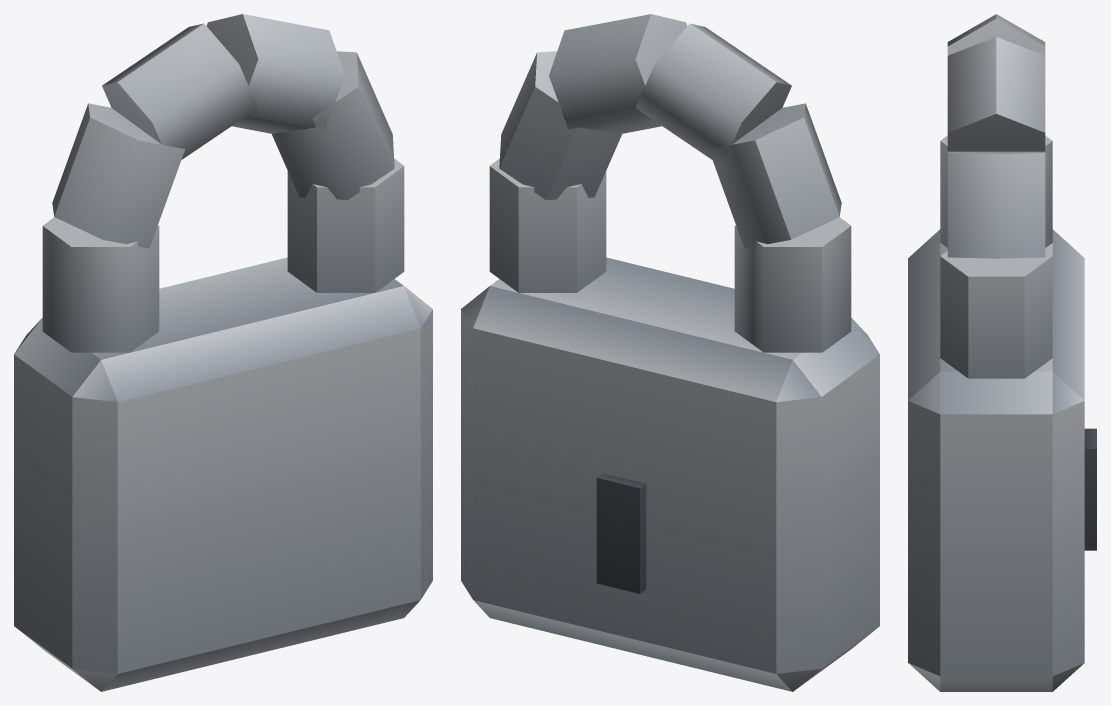
File: ck_padlock.fbx
3 views of the same model, side by side, from view 1: azimuth 30°, elevation 25°; view 2: azimuth 150°, elevation 25°; view 3: azimuth 270°, elevation 25° (orthographic). The views are drawn at different scales.
Parts seen in each view (by area): view 1: ck_padlock; view 2: ck_padlock; view 3: ck_padlock.
Part boxes in pixels (box(x1,y1,x2,y2)): ck_padlock: box(14, 14, 432, 691); ck_padlock: box(461, 14, 879, 691); ck_padlock: box(908, 14, 1096, 691).
Bounding box in the file's own units: 18.41 × 30 × 8.65.
